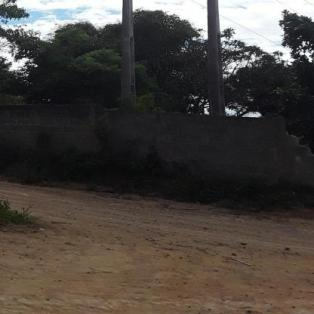Poste: (201, 0, 225, 115), (119, 0, 140, 103)
